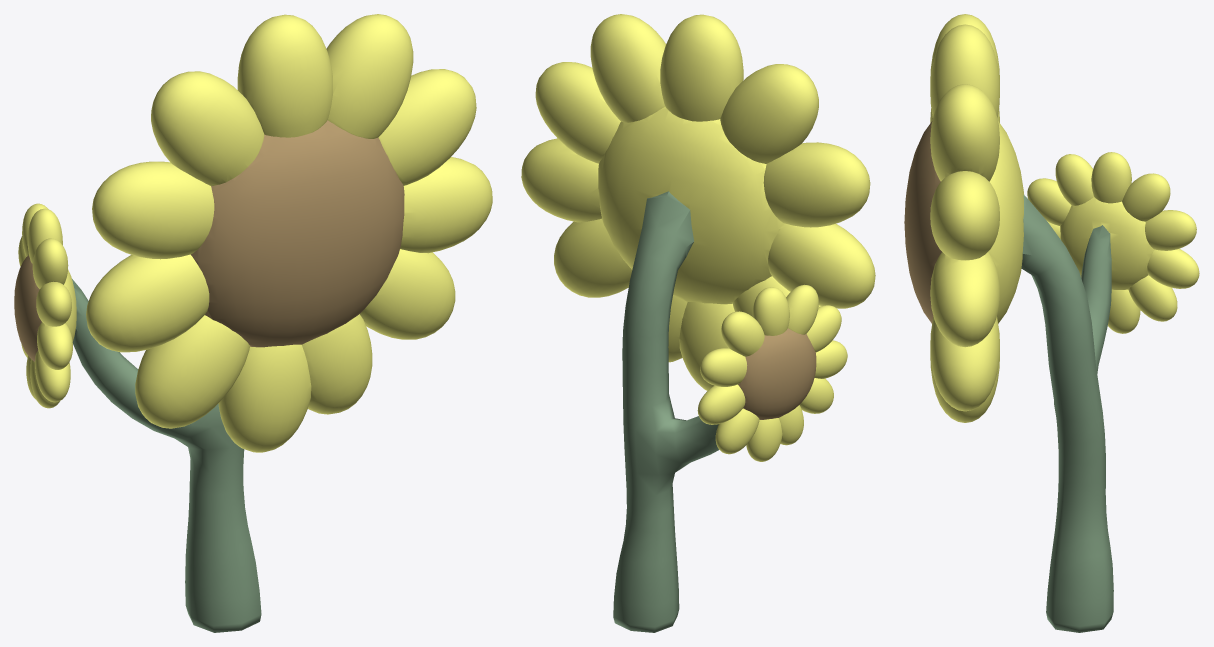
File: Flower_Small.fbx
The picture shows the model from 3 angles, left to right: view 1: azimuth 30°, elevation 25°; view 2: azimuth 150°, elevation 25°; view 3: azimuth 270°, elevation 25°; orthographic projection. The views are drawn at different scales.
Visible parts, largest first — view 1: polySurface6; view 2: polySurface6; view 3: polySurface6.
Part boxes in pixels (<box>): polySurface6: <box>14,14,492,632</box>; polySurface6: <box>521,14,875,632</box>; polySurface6: <box>904,14,1199,632</box>.
Bounding box in the file's own units: 2.12 × 3.23 × 1.46.
